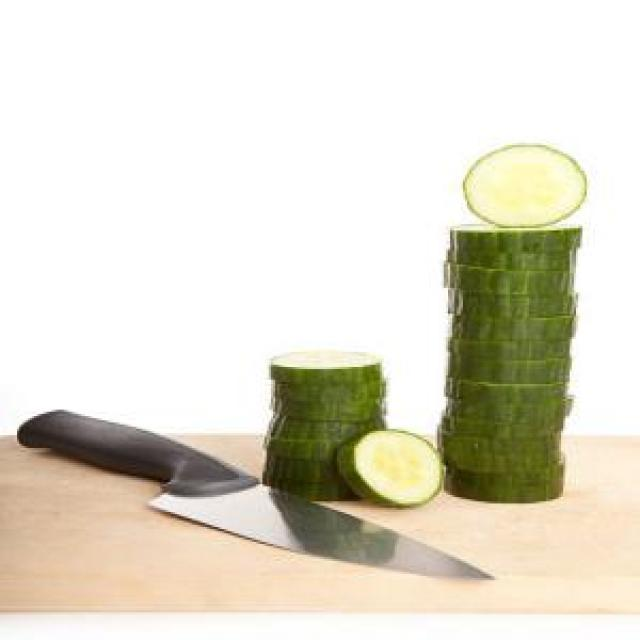knife: (13, 406, 497, 582)
